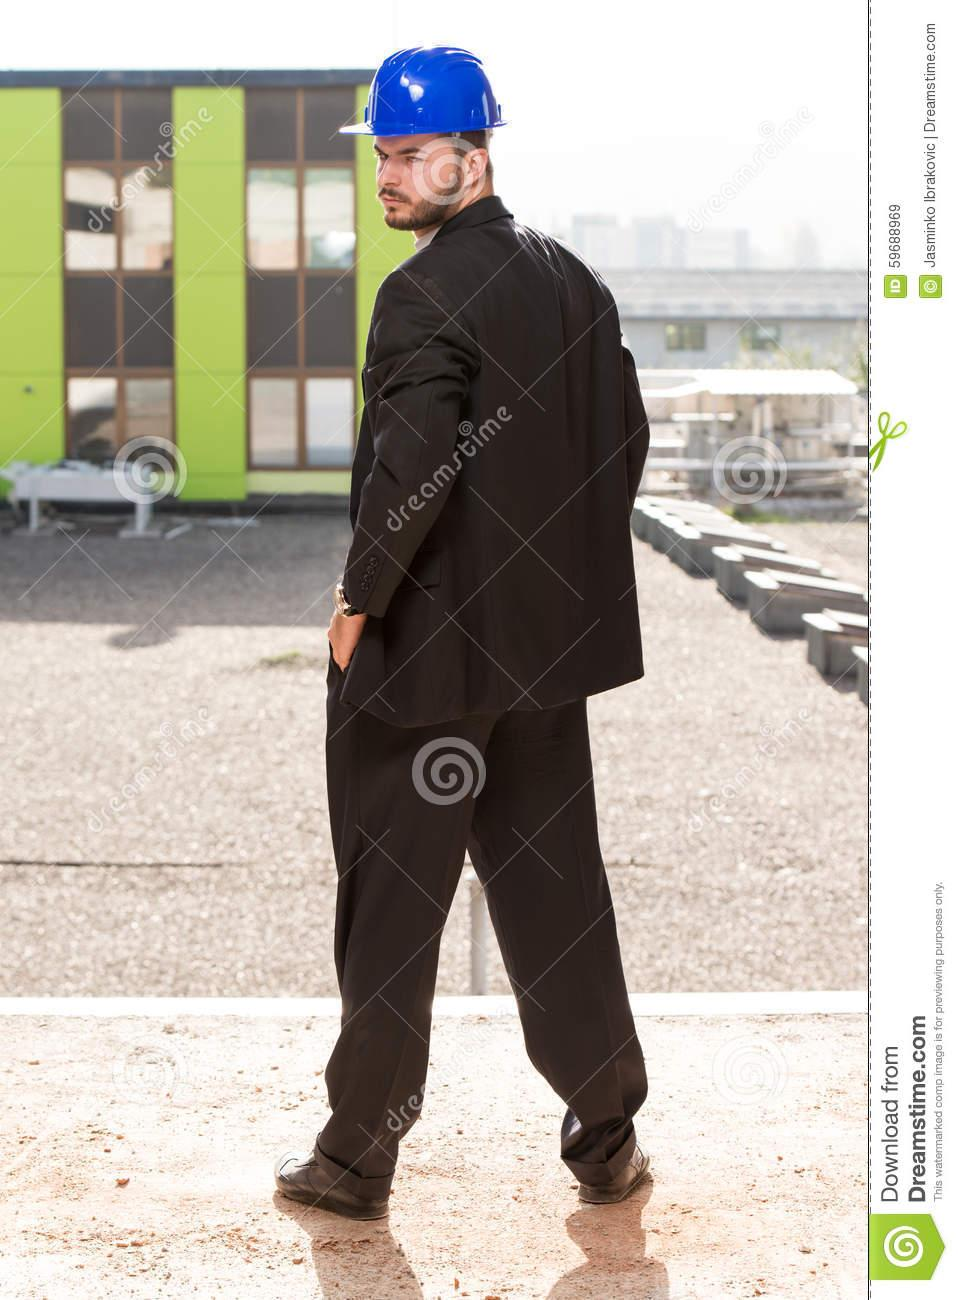helmet: (347, 51, 507, 137)
